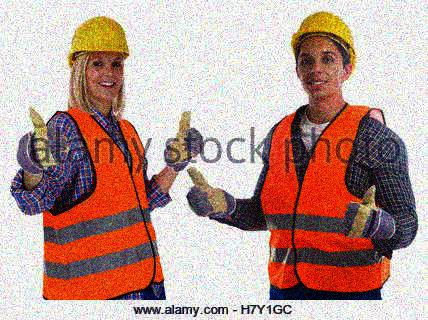helmet: (288, 9, 357, 97), (66, 15, 131, 104)
